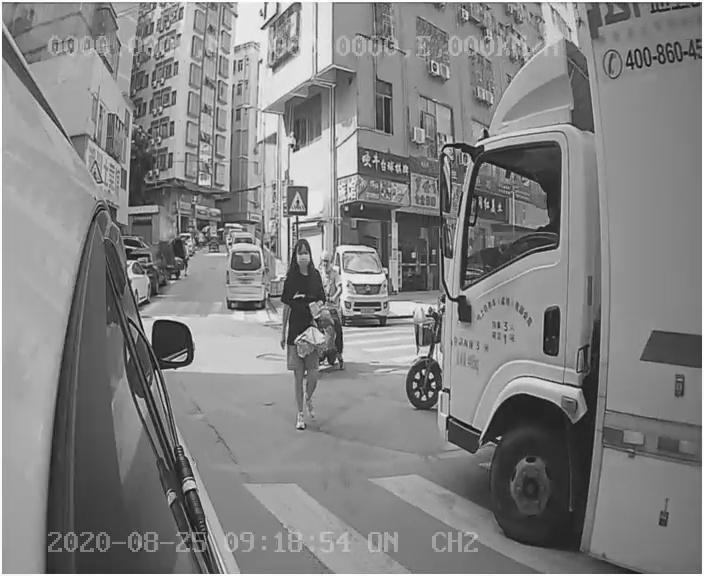person: (277, 237, 334, 432)
